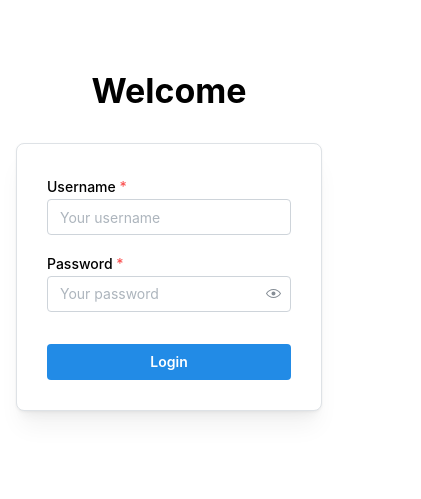
Test case: Login › displays an error message on login failure
The width and height of the screenshot is (421, 499).
Type "testuser" into the field with placeholder "Your username" at x=169, y=217, box [47,199,291,235]
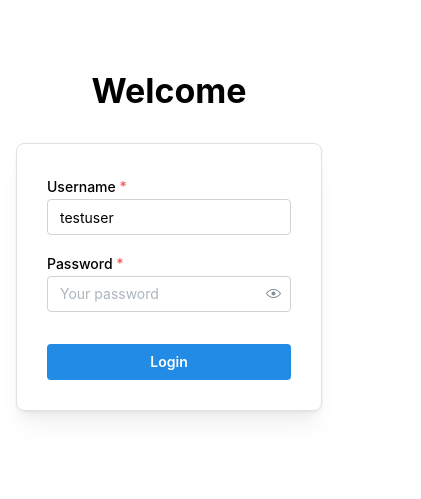
Type "password" into the password field with placeholder "Your password" at x=169, y=294, box [48,277,290,311]
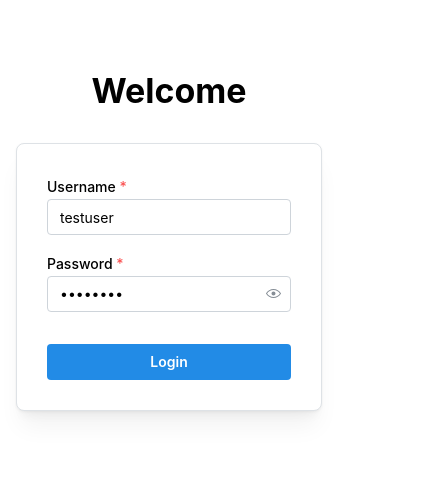
Click the button "Login" at x=169, y=362, box [47,344,291,380]
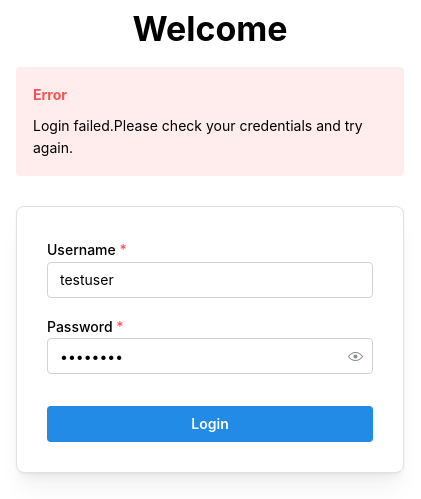
Expected: the text "Login failed.Please check your credentials and try again." is shown, [33,116,387,159]
